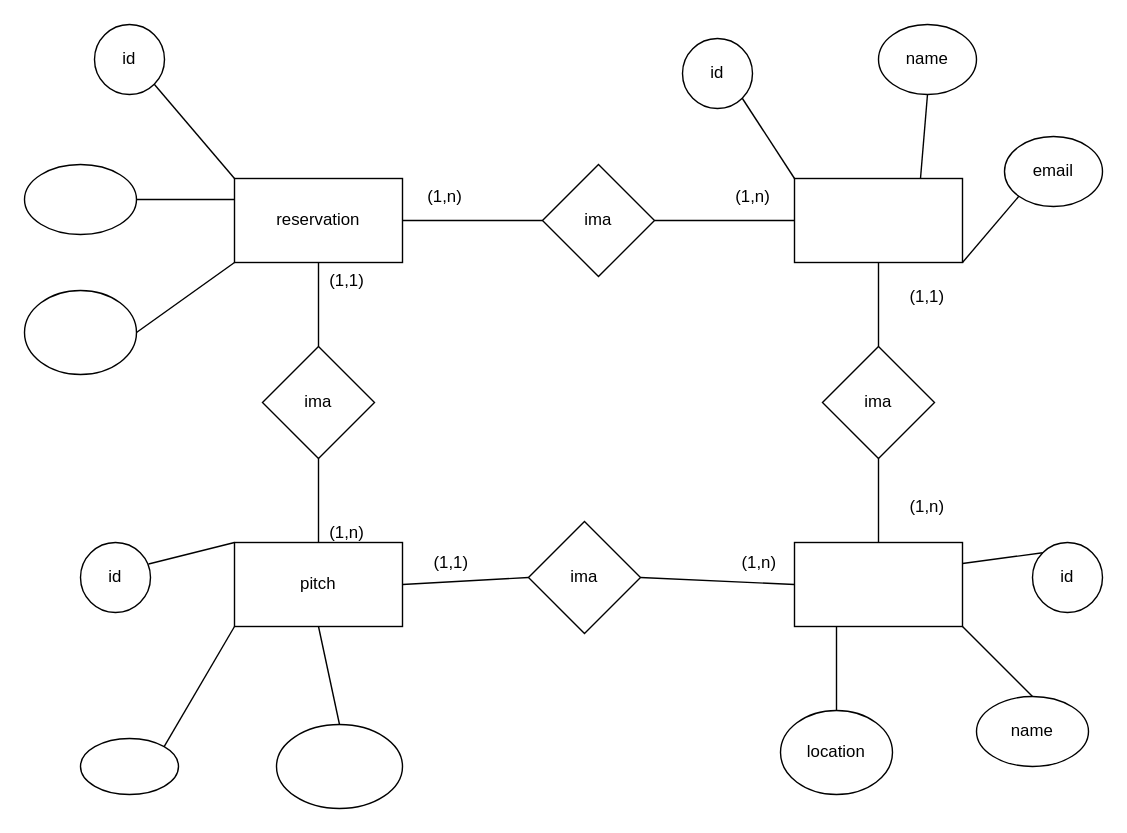
This 1127x833 diagram has some shape labels left out. Each missing label, with the centre of its shape:
"client" goes at point 877,219.
"endTime" goes at point 79,331.
"pricePerHour" goes at point 338,765.
"sportCenter" goes at point 877,583.
"startTime" goes at point 79,198.
"type" goes at point 128,765.
